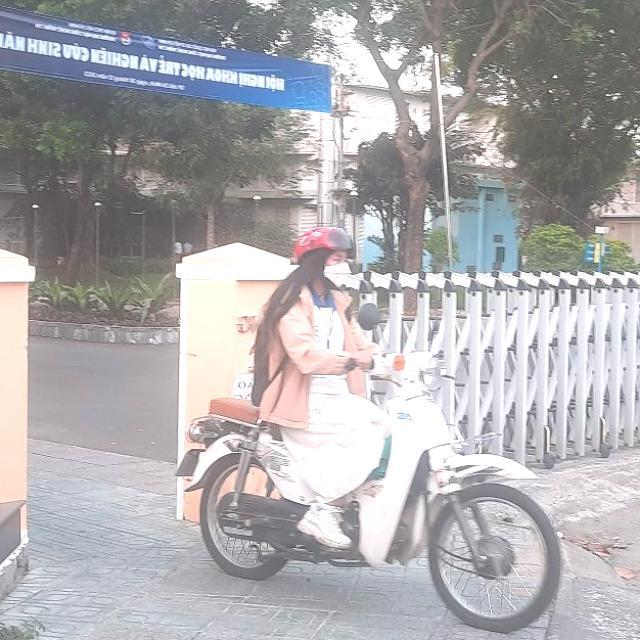Helmet: (290, 224, 354, 294)
